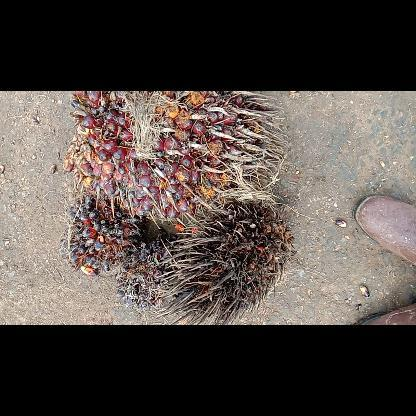Janjang kosong: (160, 190, 296, 324)
TBS abnormal: (58, 191, 146, 277), (110, 229, 184, 317)
TBS masak: (61, 92, 283, 222)
